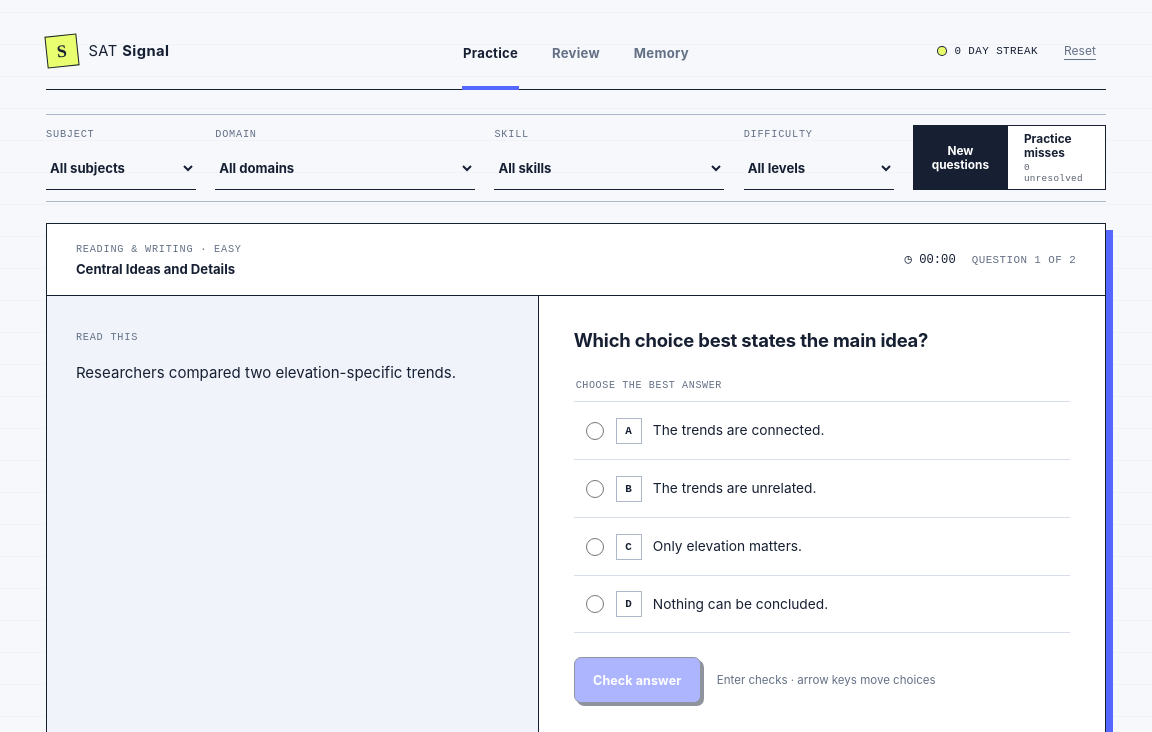
Scenario: SAT practice app › does not resurrect history erased by a reset in another tab
Expected: the heading "Which choice best states the main idea?" is shown, top-left (574, 329), bottom-right (928, 351)
What coordinates should you click on to do the following:
click the radio button labelled "A The trends are connected."
I would click on:
 (595, 431)
Its box is top-left (586, 422), bottom-right (604, 440).
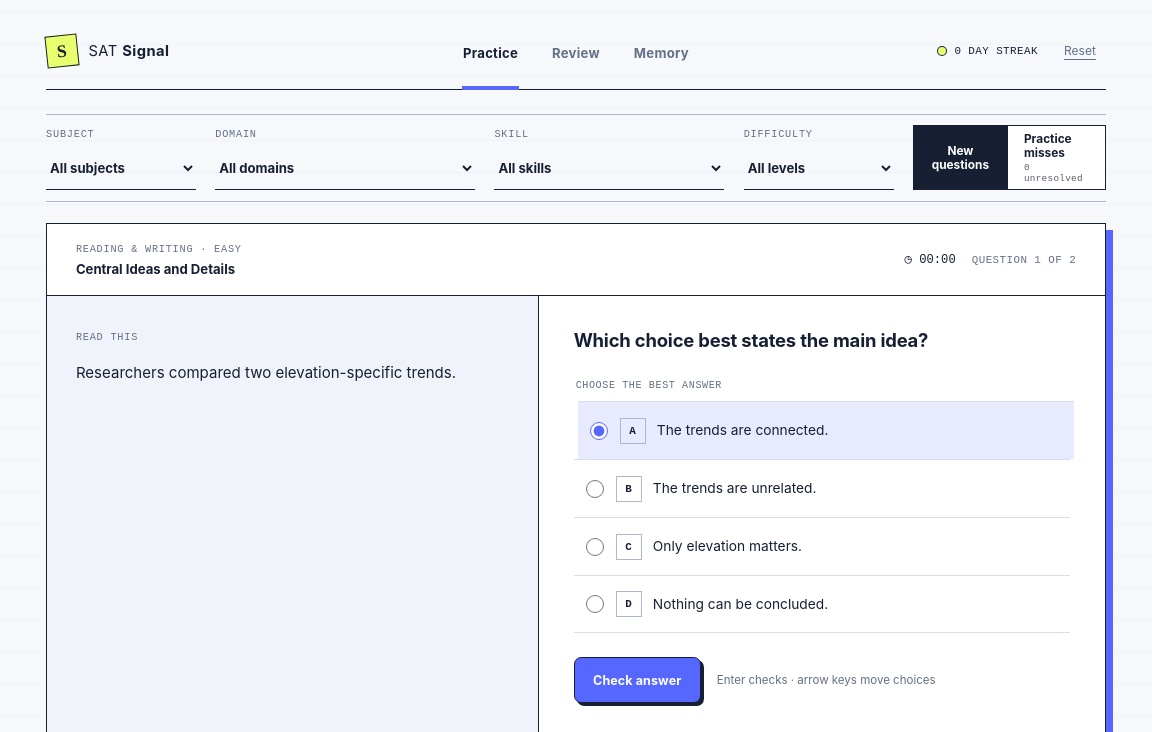
What coordinates should you click on to do the following:
click the button "Check answer"
I would click on:
 (637, 680)
Its box is top-left (574, 657), bottom-right (701, 703).
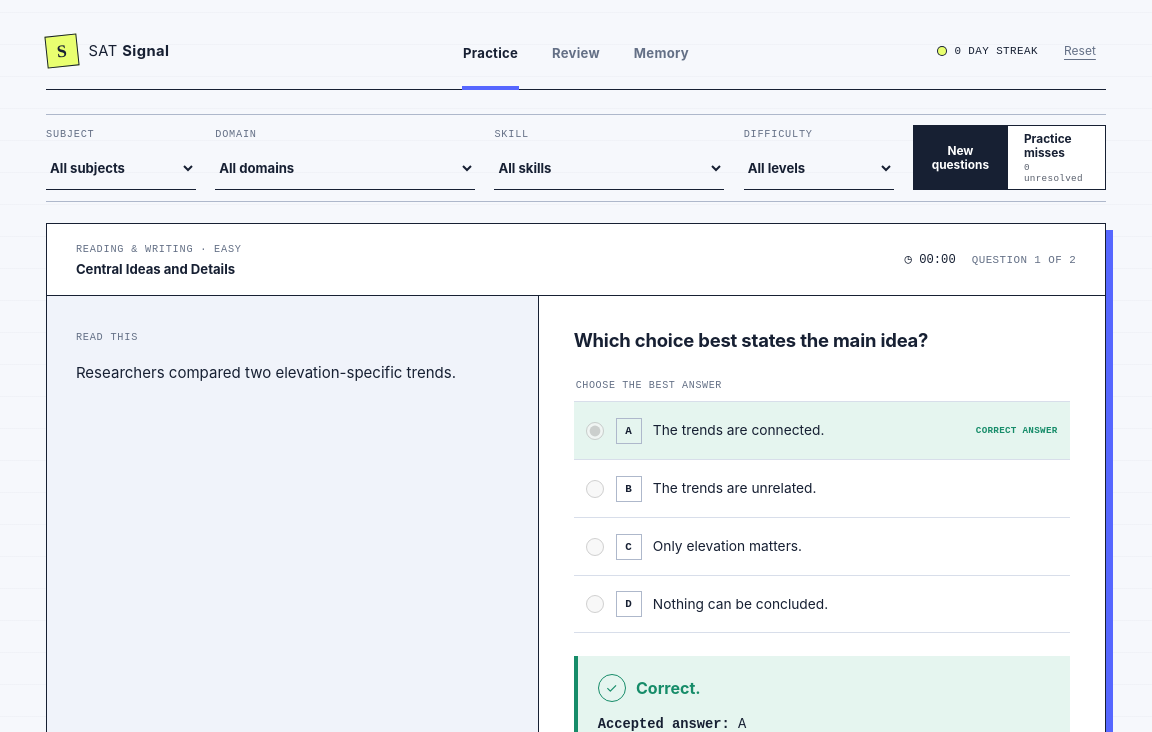
What coordinates should you click on to do the following:
click the button "Memory"
I would click on:
 (661, 50)
Its box is top-left (624, 12), bottom-right (699, 89).
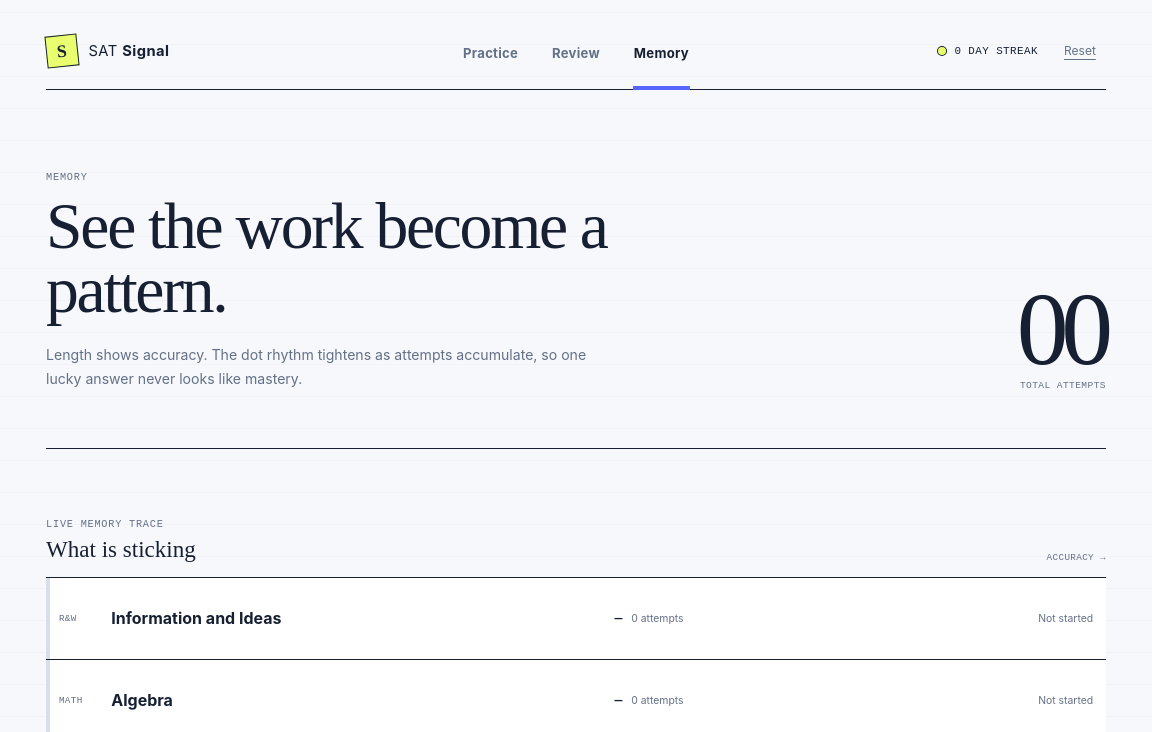
Expected: the text "total attempts" reads "00 total attempts", top-left (1017, 292), bottom-right (1106, 390)
